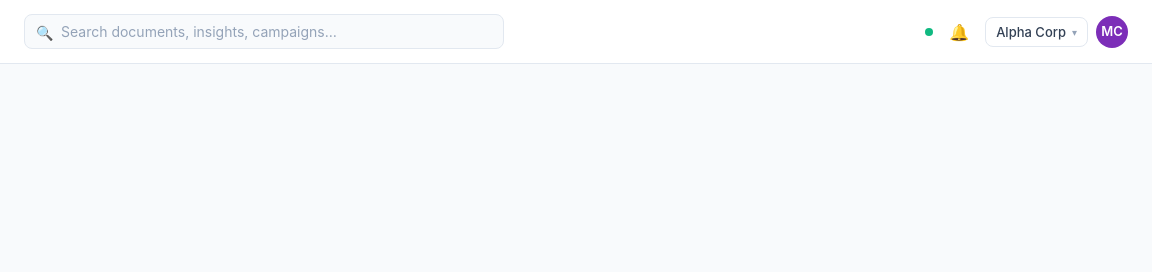
Test: Header — search results dropdown › shows dropdown after debounce with matching results
Type "brand" into the search field.
click(264, 32); type("brand")  # box [24,14,504,49]
Wait 500 ms
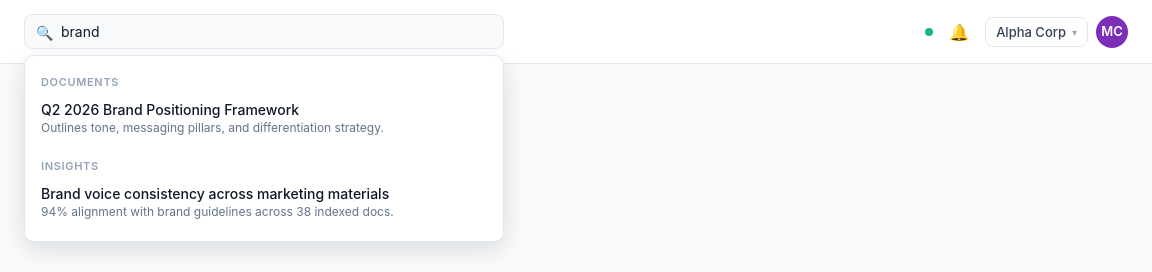
Now the list with test id "search-dropdown" is shown, box [24,55,504,242]
